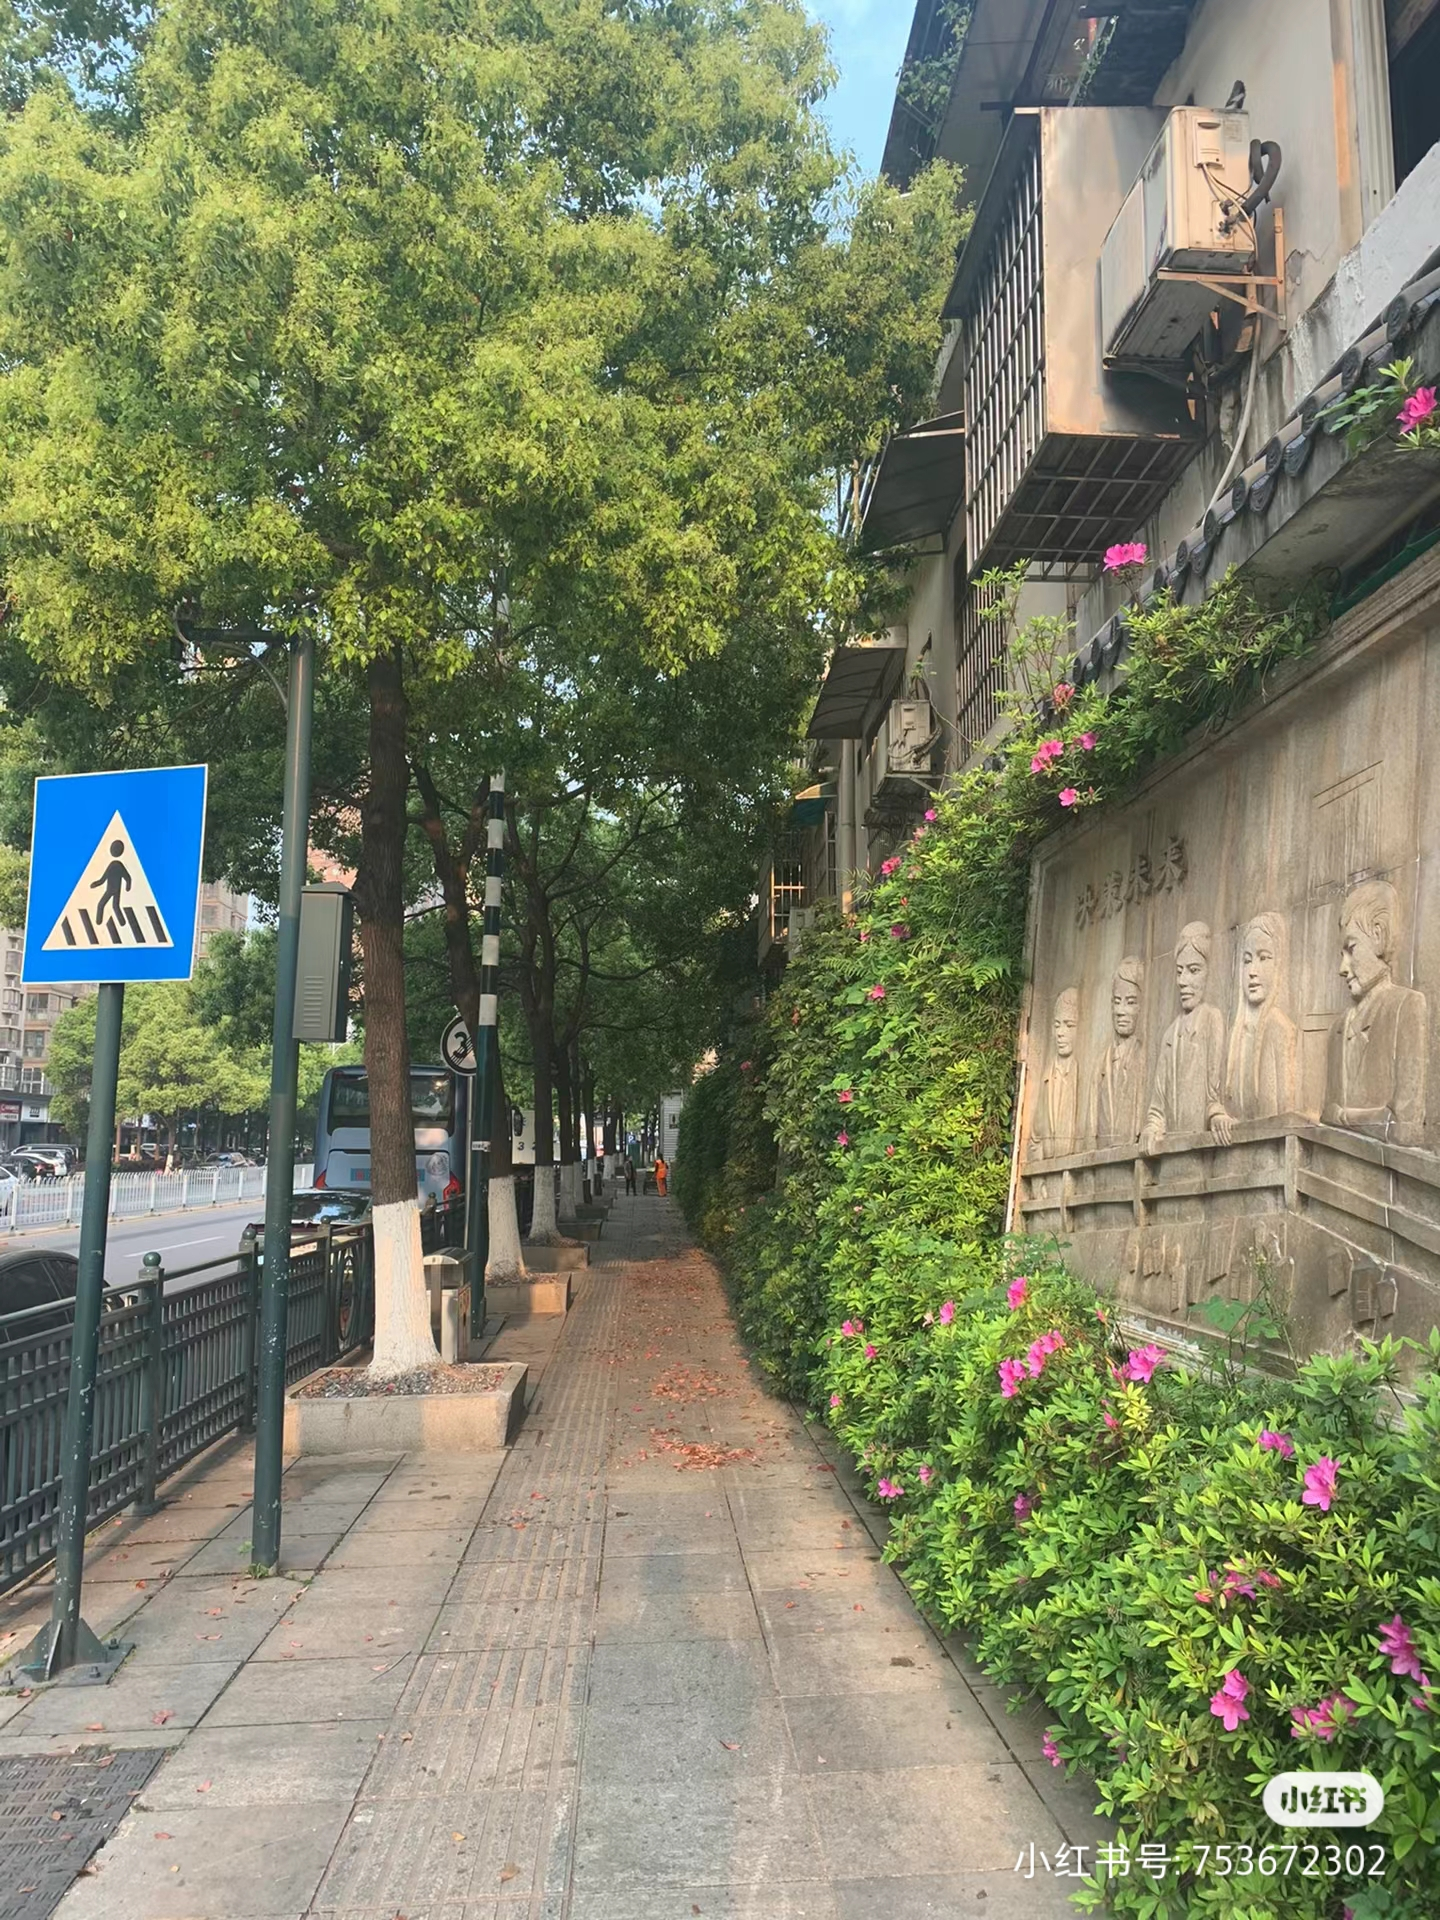ip: (35, 777, 195, 972)
